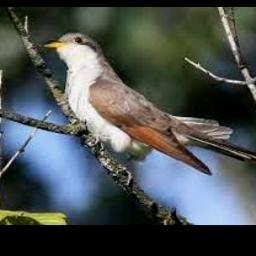Cuckoo: (43, 32, 233, 176)
